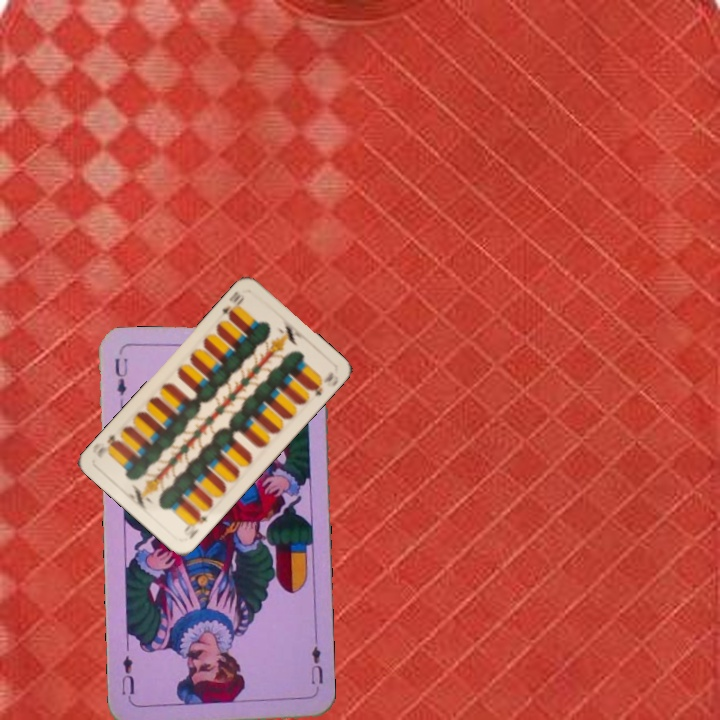E10: (180, 507, 210, 542), (217, 287, 247, 322)
EU: (306, 642, 326, 696), (110, 354, 131, 398)
